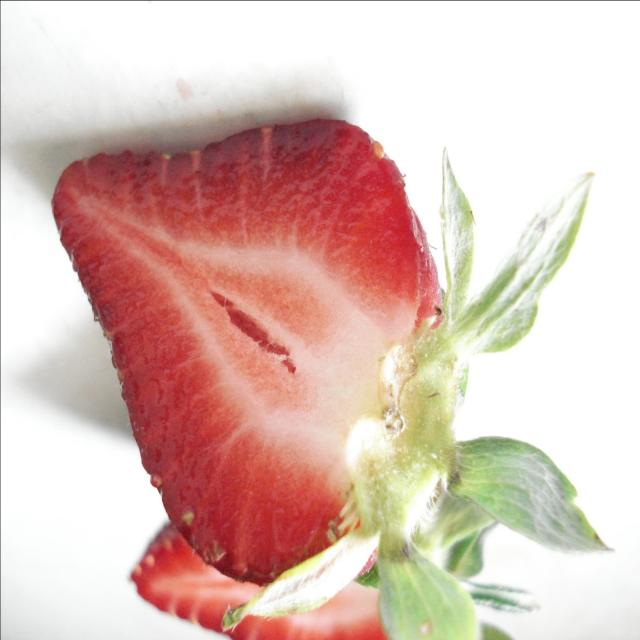strawberry: (45, 105, 619, 640)
